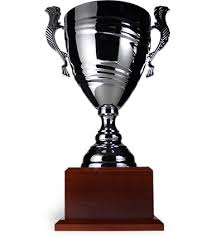trophy: (41, 1, 173, 232)
